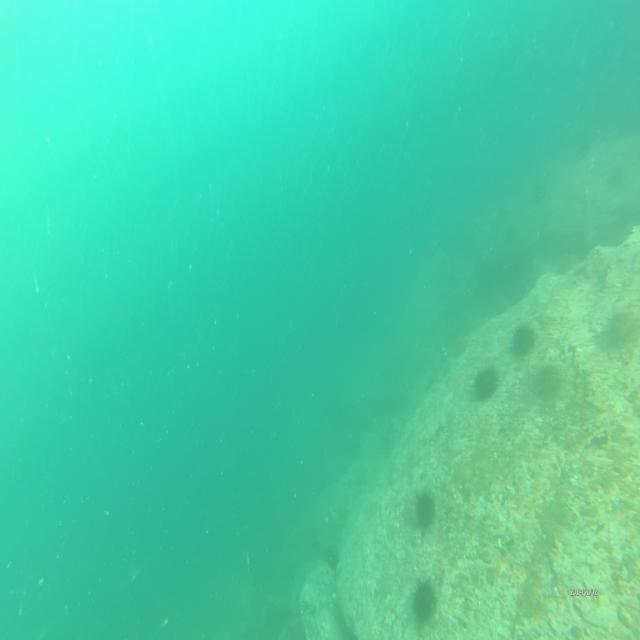echinus: (409, 574, 438, 622), (533, 364, 563, 408), (604, 308, 636, 349), (473, 363, 496, 399), (412, 490, 434, 524), (513, 321, 529, 356)
